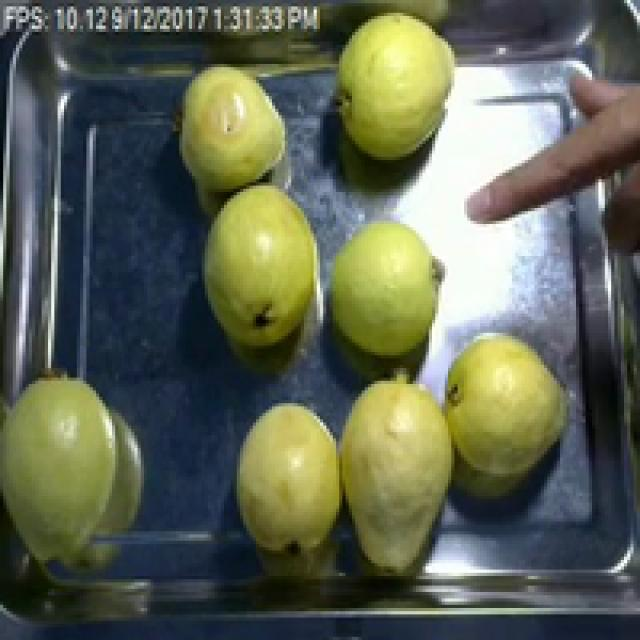Fruit: (0, 362, 154, 588), (330, 362, 470, 579), (192, 172, 330, 362), (432, 316, 579, 489), (317, 205, 461, 374), (332, 3, 473, 173), (228, 394, 342, 563), (170, 58, 298, 198)
